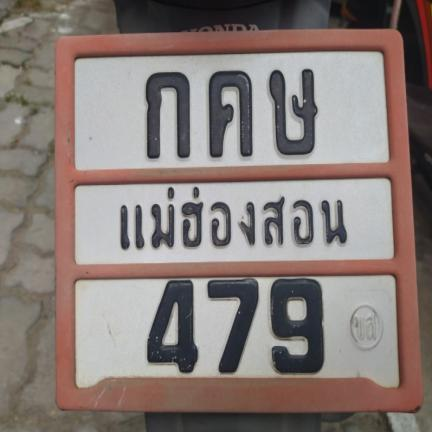4: (144, 276, 201, 377)
7: (205, 278, 260, 375)
9: (264, 277, 327, 377)
A01: (137, 68, 192, 158)
A04: (203, 66, 253, 158)
A39: (264, 65, 323, 157)
MSN: (109, 175, 350, 254)
